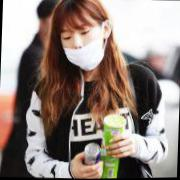WRONG: (60, 19, 106, 72)
